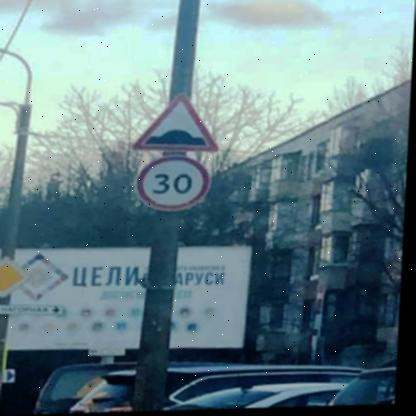Speed Limit -30-: (137, 152, 215, 218)
